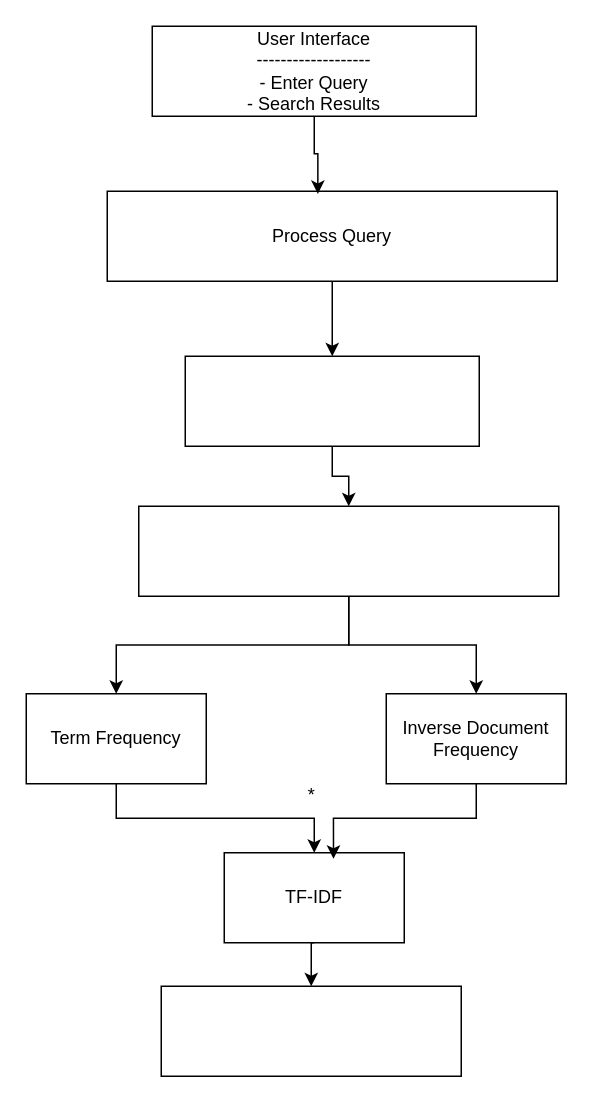
This 593x1103 diagram has some shape labels left out. The shapes that lost their labels are listed below. From the top down, each one's box as (x1, y1, x2, y2) in pixels, then its label:
(184, 355, 479, 446): Get all documents getAllTextDocuments()
(137, 505, 559, 596): Calculate TF, ID and TF-IDF
(160, 985, 461, 1076): Display Results on panel
